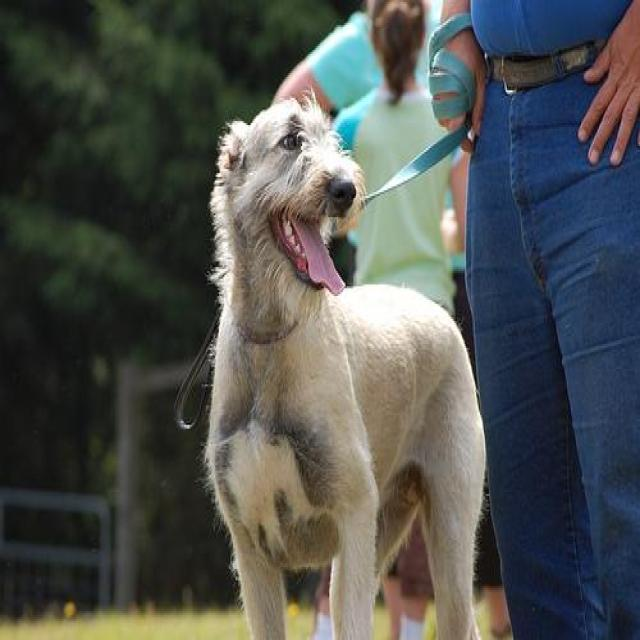irish_wolfhound: (205, 88, 485, 638)
